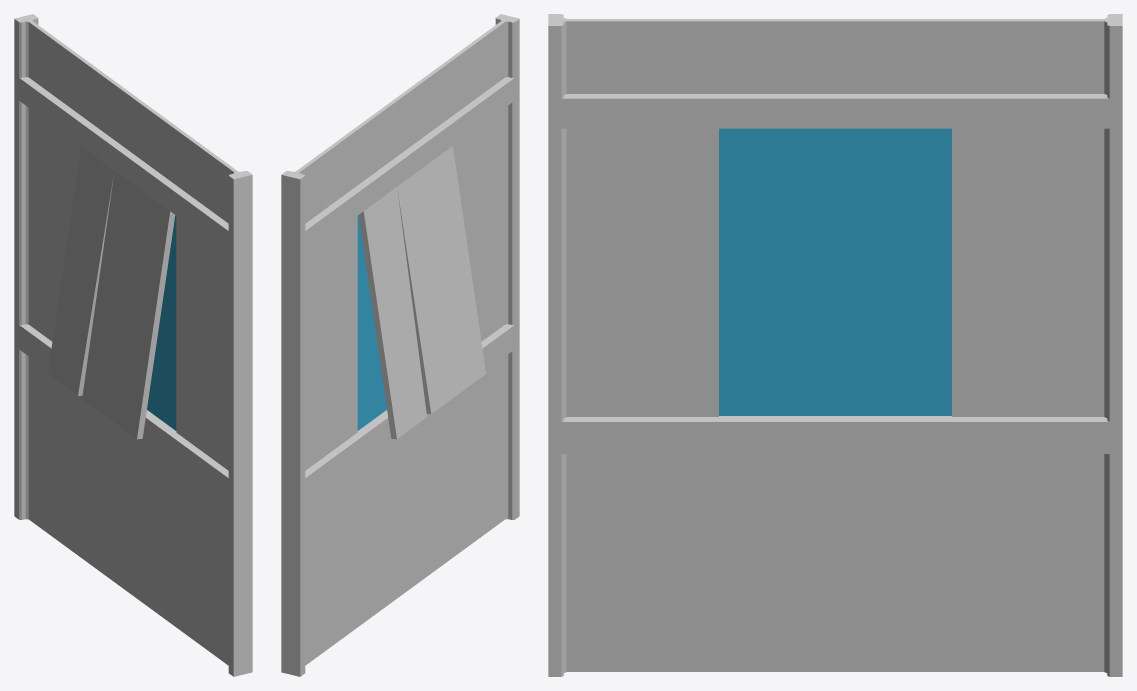
Rendered from assetpackswampvilligewallwindow.fbx.
3 views of the same model, side by side, from view 1: azimuth 30°, elevation 25°; view 2: azimuth 150°, elevation 25°; view 3: azimuth 270°, elevation 25° (orthographic). The views are drawn at different scales.
Visible parts, largest first — view 1: Plane.001; view 2: Plane.001; view 3: Plane.001.
Boxes of the visible parts, <box> form: Plane.001: <box>14,14,252,676</box>; Plane.001: <box>281,14,519,676</box>; Plane.001: <box>548,14,1122,676</box>.
Bounding box in the file's own units: 26.61 × 250 × 200.
